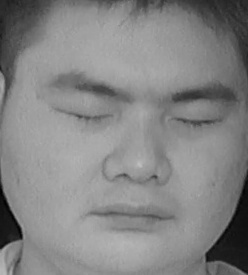blink: (55, 100, 117, 136), (172, 106, 226, 138)
mouth: (85, 190, 179, 239)
